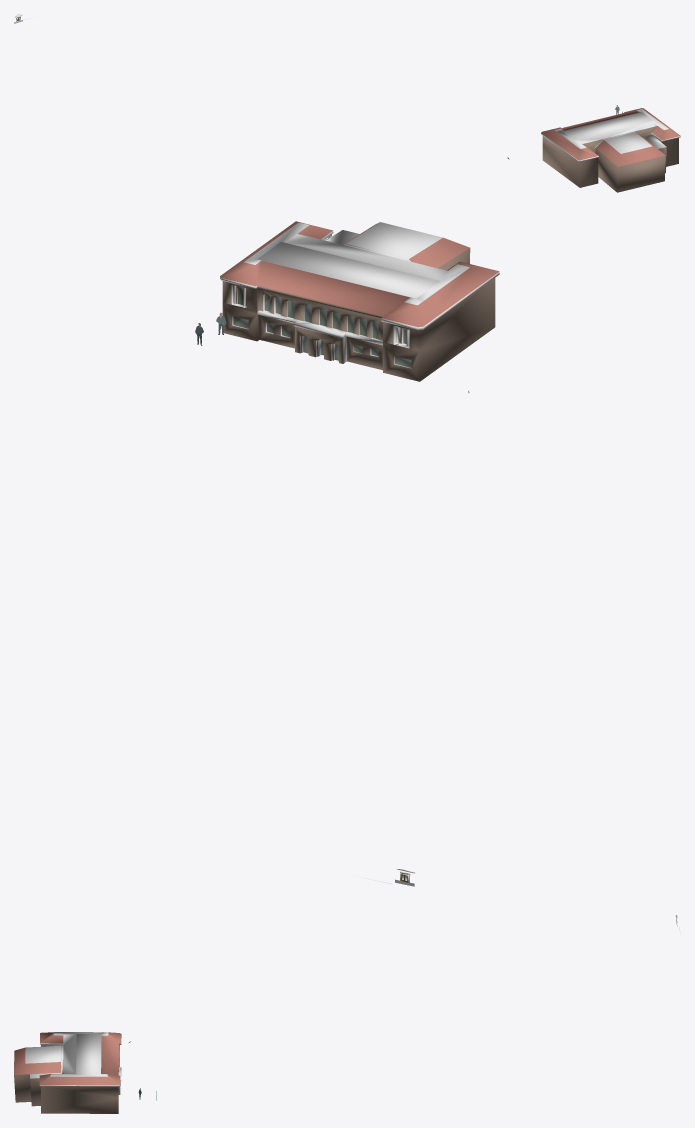
The model's file is arizonastatemuseum.dae.
The picture shows the model from 3 angles, top to bottom: view 1: azimuth 30°, elevation 25°; view 2: azimuth 150°, elevation 25°; view 3: azimuth 270°, elevation 25°; orthographic projection. The views are drawn at different scales.
Parts seen in each view (by area): view 1: Mesh10_Component2_2_1_Component1_2_1_skpAC7A1_Model_001; view 2: Mesh10_Component2_2_1_Component1_2_1_skpAC7A1_Model_001; view 3: Mesh10_Component2_2_1_Component1_2_1_skpAC7A1_Model_001.
Part boxes in pixels (x1,y1,x2,y2): Mesh10_Component2_2_1_Component1_2_1_skpAC7A1_Model_001: (541, 108, 680, 192); Mesh10_Component2_2_1_Component1_2_1_skpAC7A1_Model_001: (220, 221, 499, 381); Mesh10_Component2_2_1_Component1_2_1_skpAC7A1_Model_001: (14, 1032, 121, 1113).
Bounding box in the file's own units: 57.54 × 87.24 × 5.31.
